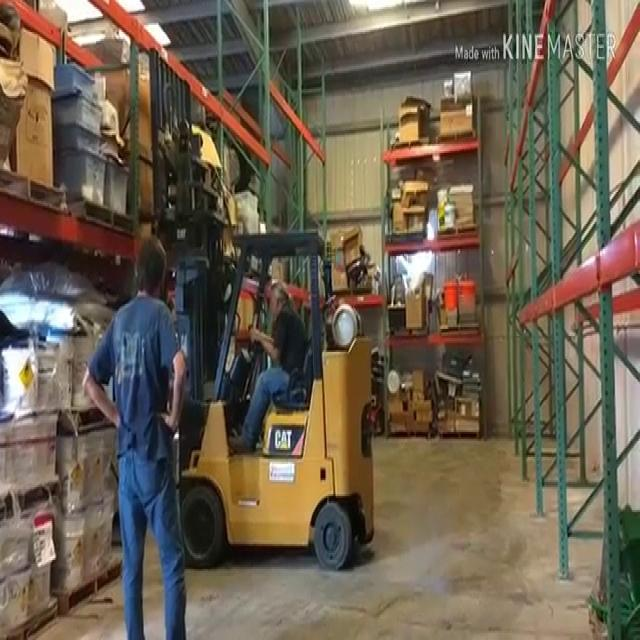Chariot elevateur: (179, 220, 384, 586)
